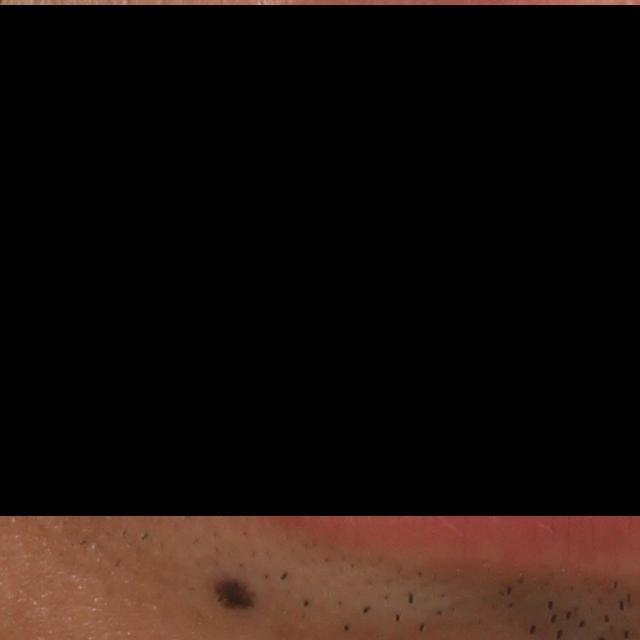nevus: (217, 579, 257, 612)
